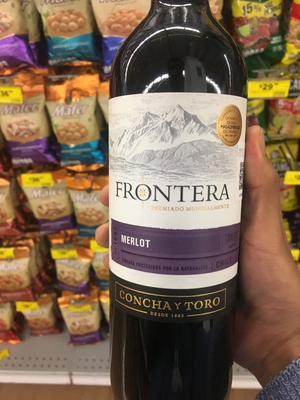frontera merlot: (88, 38, 259, 372)
